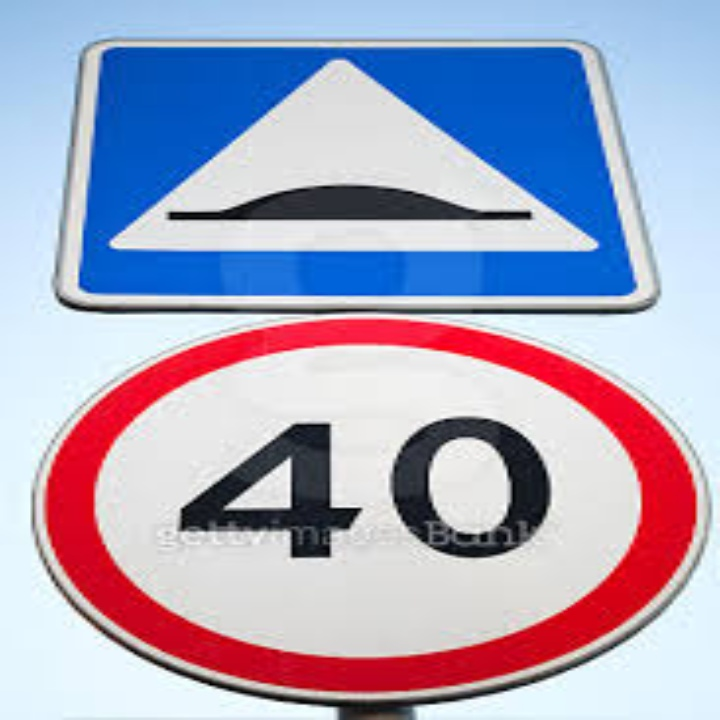bump: (104, 58, 596, 257)
